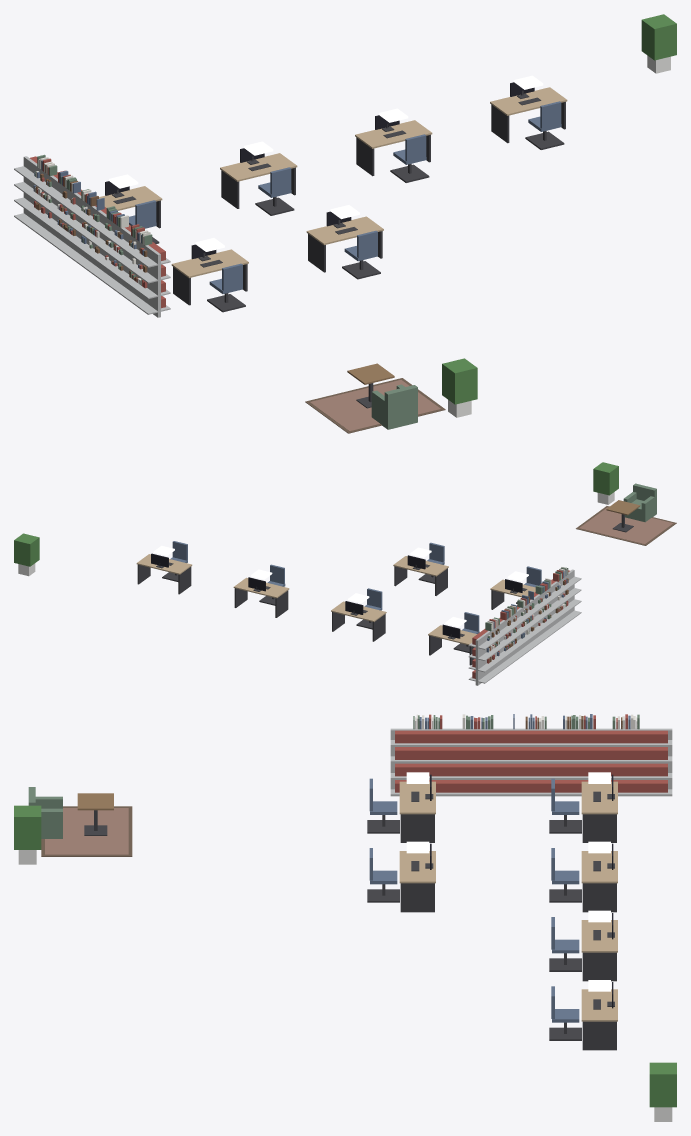
The model's file is fine-s1.glb.
3 views of the same model, one above another, from view 1: azimuth 30°, elevation 25°; view 2: azimuth 150°, elevation 25°; view 3: azimuth 270°, elevation 25° (orthographic). The views are drawn at different scales.
Parts seen in each view (by area): view 1: soft-s1, shelving.004, shelving.000, office-desk-real.007, office-desk-real.008, office-desk-real.006, office-desk-real.009, office-desk-real.010, shelving.002, plant-medium.000, plant-medium.001, sofa.001 (+10 smaller); view 2: soft-s1, shelving.000, office-desk-real.007, office-desk-real.008, shelving.003, office-desk-real.006, office-desk-real.010, shelving.004, shelving.002, plant-medium.001, plant-medium.000, sofa.001 (+9 smaller); view 3: soft-s1, shelving.000, shelving.003, shelving.002, shelving.004, shelving.001, office-desk-real.010, office-desk-real.008, office-desk-real.009, office-desk-real.005, office-desk-real.006, office-desk-real.007 (+10 smaller).
Boxes of the visible parts, x1=… form: soft-s1: x1=33, y1=154, x2=445, y2=433; shelving.004: x1=109, y1=226, x2=170, y2=317; shelving.000: x1=14, y1=156, x2=62, y2=244; office-desk-real.007: x1=355, y1=115, x2=432, y2=176; office-desk-real.008: x1=490, y1=82, x2=567, y2=143; office-desk-real.006: x1=220, y1=148, x2=297, y2=208; office-desk-real.009: x1=171, y1=244, x2=248, y2=305; office-desk-real.010: x1=306, y1=211, x2=383, y2=272; shelving.002: x1=61, y1=192, x2=110, y2=279; plant-medium.000: x1=442, y1=358, x2=477, y2=417; plant-medium.001: x1=641, y1=14, x2=676, y2=73; sofa.001: x1=371, y1=384, x2=417, y2=429; soft-s1: x1=485, y1=506, x2=676, y2=663; shelving.000: x1=468, y1=620, x2=512, y2=685; office-desk-real.007: x1=233, y1=577, x2=289, y2=617; office-desk-real.008: x1=136, y1=553, x2=192, y2=594; shelving.003: x1=529, y1=582, x2=564, y2=645; office-desk-real.006: x1=331, y1=601, x2=386, y2=641; office-desk-real.010: x1=393, y1=555, x2=448, y2=595; shelving.004: x1=547, y1=569, x2=581, y2=631; shelving.002: x1=512, y1=594, x2=547, y2=658; plant-medium.001: x1=14, y1=533, x2=39, y2=576; plant-medium.000: x1=593, y1=462, x2=618, y2=504; sofa.001: x1=623, y1=483, x2=656, y2=522; soft-s1: x1=41, y1=714, x2=639, y2=856; shelving.000: x1=590, y1=728, x2=672, y2=796; shelving.003: x1=440, y1=728, x2=521, y2=796; shelving.002: x1=490, y1=728, x2=571, y2=796; shelving.004: x1=390, y1=728, x2=472, y2=796; shelving.001: x1=540, y1=728, x2=622, y2=796; office-desk-real.010: x1=399, y1=843, x2=435, y2=912; office-desk-real.008: x1=581, y1=982, x2=617, y2=1050; office-desk-real.009: x1=399, y1=774, x2=435, y2=842; office-desk-real.005: x1=581, y1=774, x2=617, y2=842; office-desk-real.006: x1=581, y1=843, x2=617, y2=912; office-desk-real.007: x1=581, y1=913, x2=617, y2=981.
Size of the model in its own units: 17.39 by 1.93 by 14.58.
